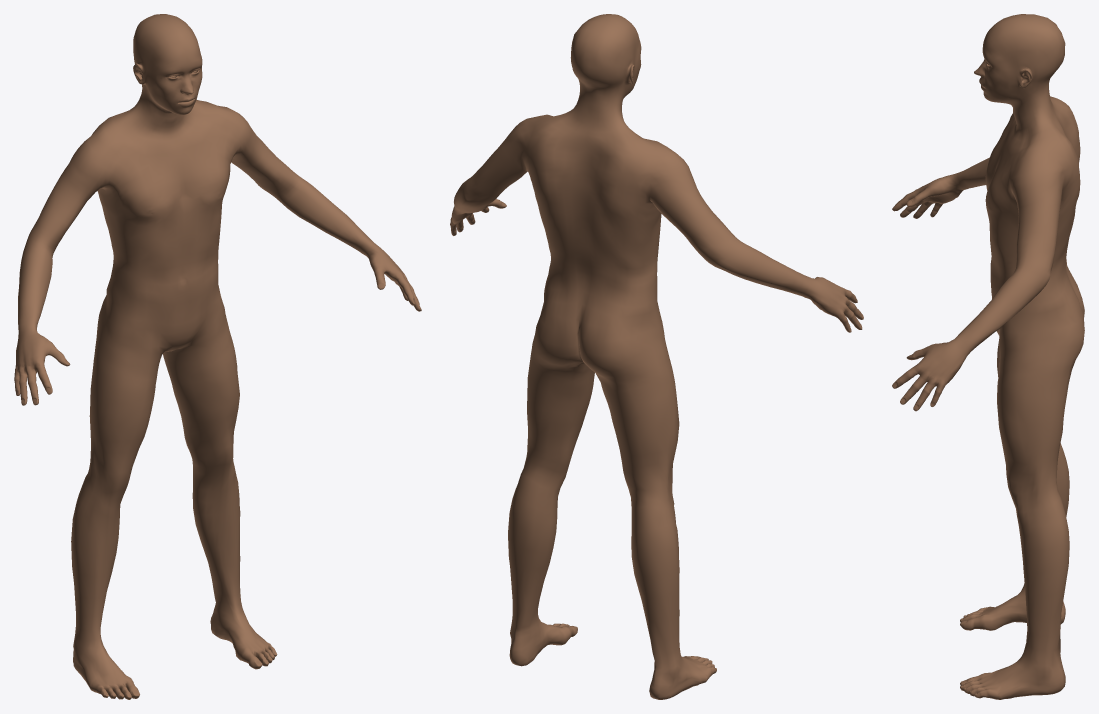
3 views of the same model, side by side, from view 1: azimuth 30°, elevation 25°; view 2: azimuth 150°, elevation 25°; view 3: azimuth 270°, elevation 25° (orthographic).
Parts seen in each view (by area): view 1: base.obj; view 2: base.obj; view 3: base.obj.
Part boxes in pixels (<box>): base.obj: <box>14,14,421,699</box>; base.obj: <box>450,14,863,699</box>; base.obj: <box>892,14,1084,699</box>.
Size of the model in its own units: 11.65 by 18 by 4.9.
